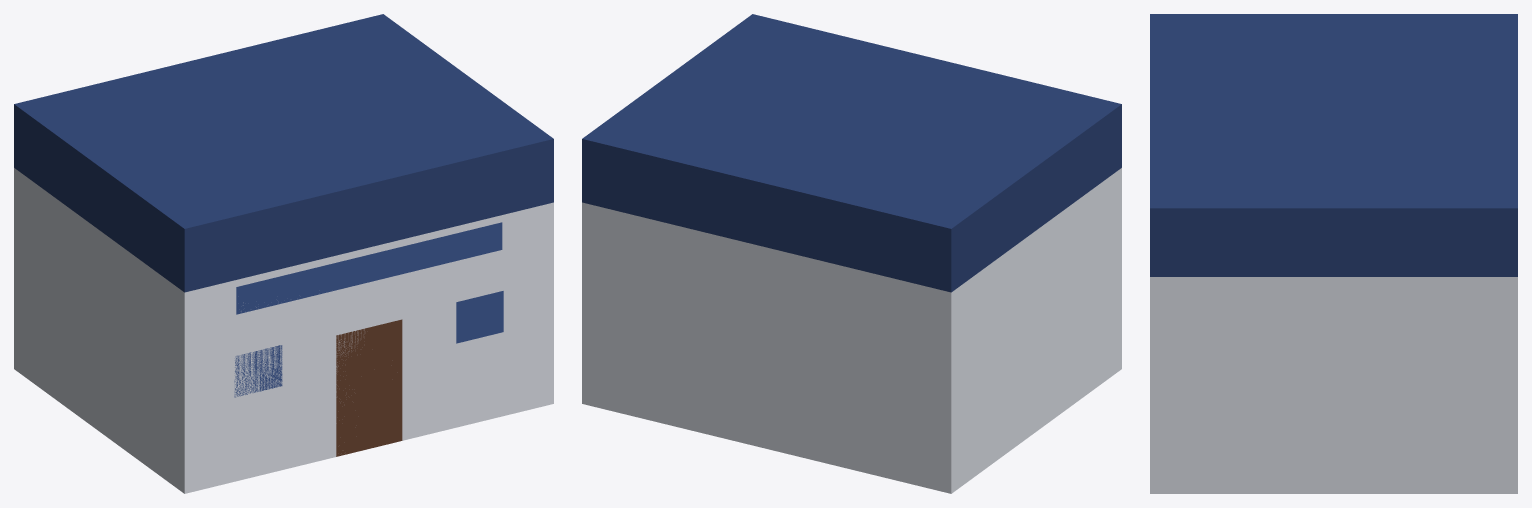
Rendered from gedung_polisi.fbx.
3 renders of one model, left to right at view 1: azimuth 30°, elevation 25°; view 2: azimuth 150°, elevation 25°; view 3: azimuth 270°, elevation 25°, orthographic. The views are drawn at different scales.
Parts seen in each view (by area): view 1: gedung_polisi; view 2: gedung_polisi; view 3: gedung_polisi.
Part boxes in pixels (<box>): gedung_polisi: <box>14,14,553,493</box>; gedung_polisi: <box>582,14,1121,493</box>; gedung_polisi: <box>1150,14,1517,493</box>.
Size of the model in its own units: 700 by 480 by 560.
1 material, 1 textured.
